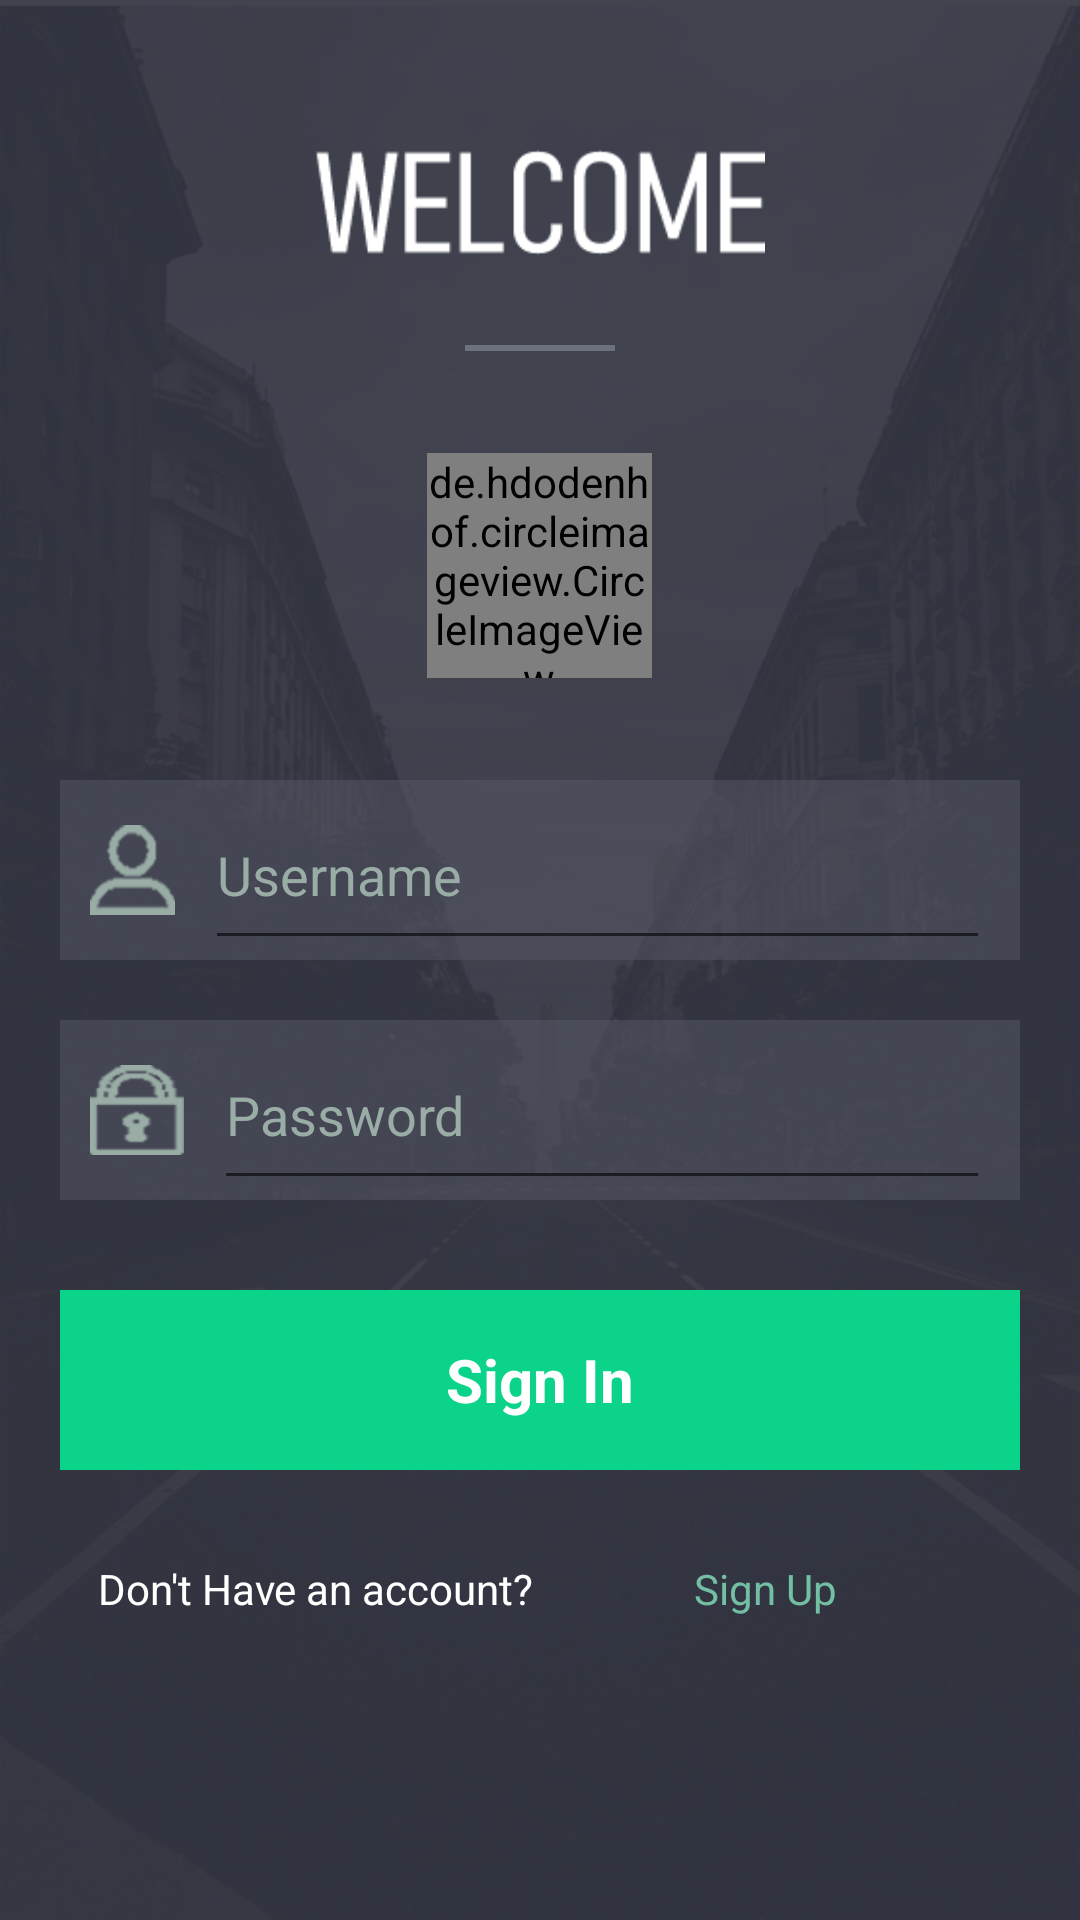

Where to tap for icons on this 1080*1920 app screen, as (x,y):
lock: (137,1110)
profil: (132,870)
